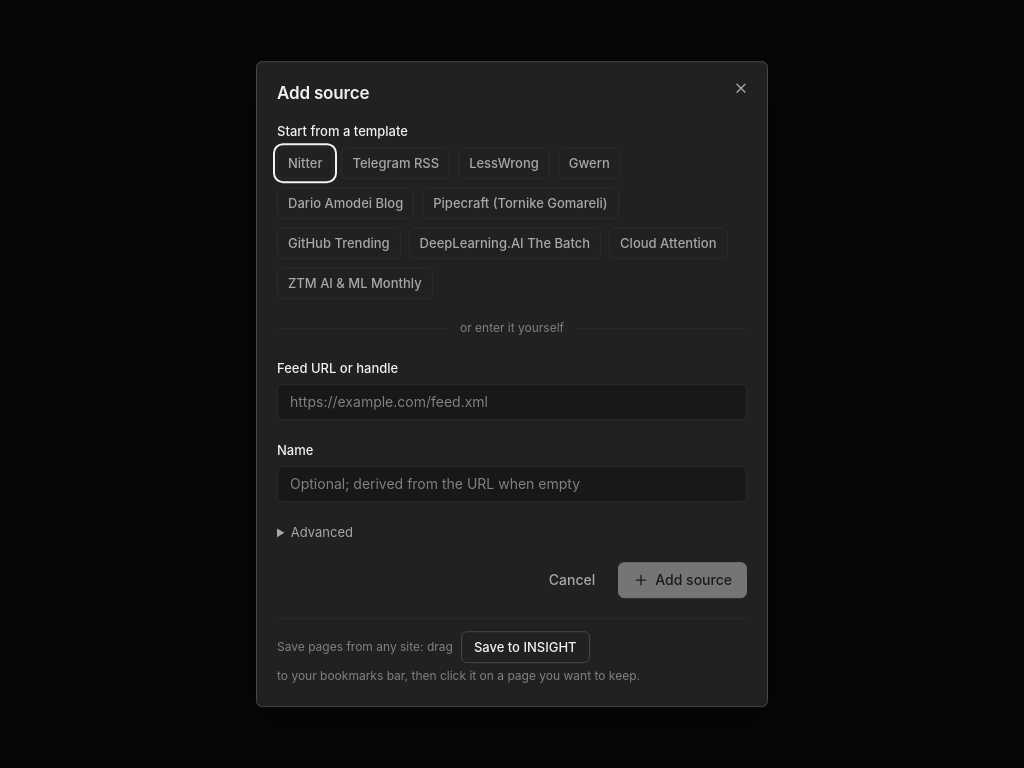
Test case: a home page with no feed offers its blog (issue 0041) › a section address is followed as it is, without the warning
Type "pay.example/news" into the field labelled "Feed URL or handle" at [512, 402], box top-left (277, 384), bottom-right (747, 420)
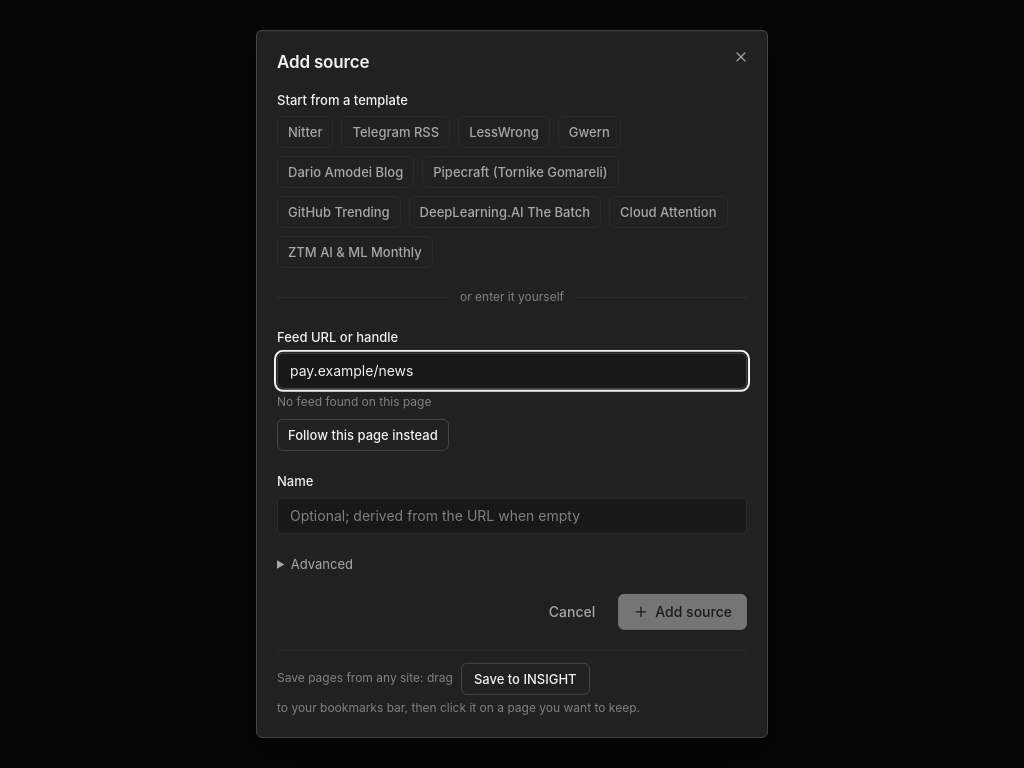
Click the button "Follow this page instead" at [363, 435], box top-left (277, 419), bottom-right (449, 451)
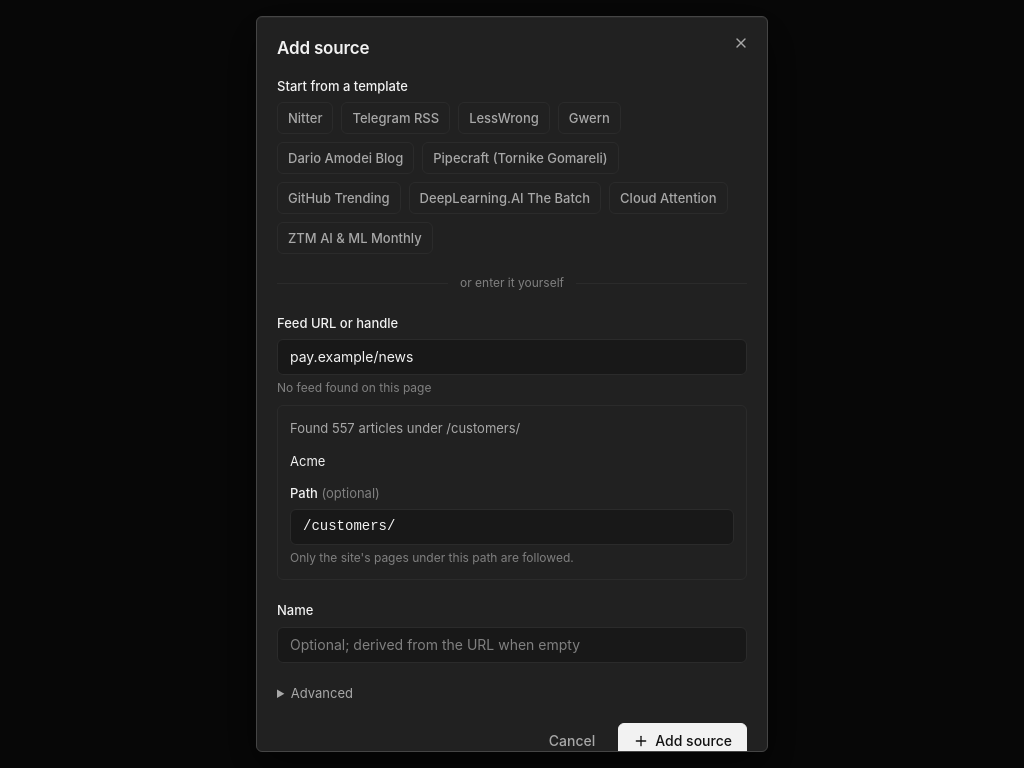
Now the text "Found 557 articles under /customers/" is shown, box top-left (290, 420), bottom-right (520, 436)
